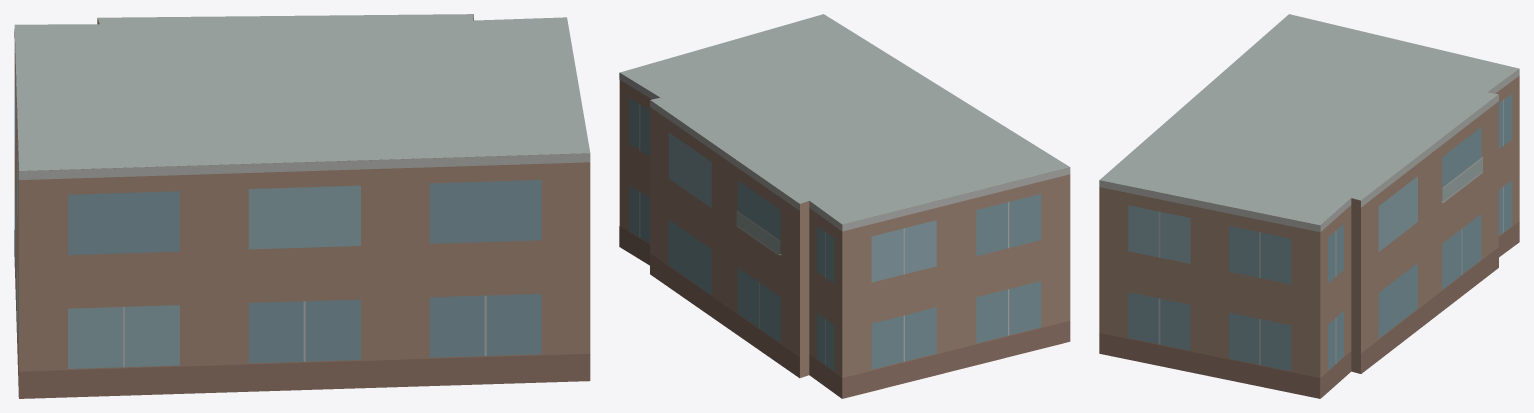
File: survey-upis-32650260.glb
3 renders of one model, left to right at view 1: azimuth 30°, elevation 25°; view 2: azimuth 150°, elevation 25°; view 3: azimuth 270°, elevation 25°, orthographic. The views are drawn at different scales.
Parts seen in each view (by area): view 1: survey-upis-32650260.tmp; view 2: survey-upis-32650260.tmp; view 3: survey-upis-32650260.tmp.
Part boxes in pixels (box(x1,y1,x2,y2)): survey-upis-32650260.tmp: box(14, 14, 590, 398); survey-upis-32650260.tmp: box(619, 14, 1070, 398); survey-upis-32650260.tmp: box(1099, 14, 1519, 398).
Size of the model in its own units: 15.94 by 6.1 by 13.4.
